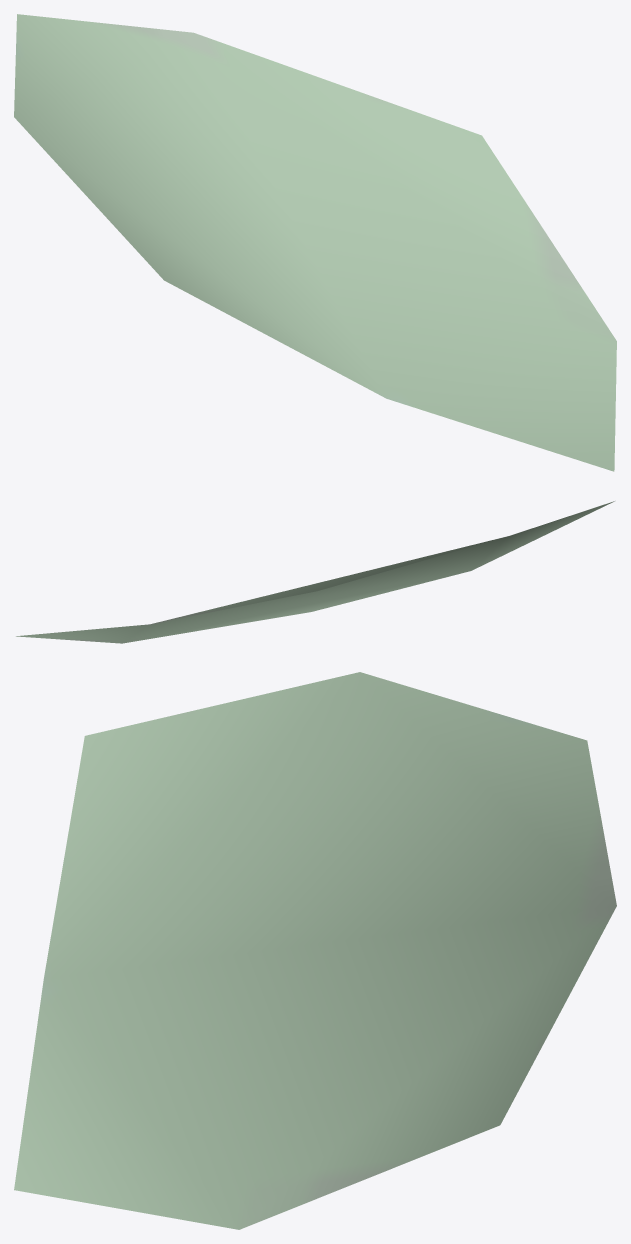
The model's file is TROLLHOLE02_HOLECAP173.fbx.
3 views of the same model, one above another, from view 1: azimuth 30°, elevation 25°; view 2: azimuth 150°, elevation 25°; view 3: azimuth 270°, elevation 25° (orthographic). The views are drawn at different scales.
Parts seen in each view (by area): view 1: TROLLHOLE02_HOLECAP173; view 2: TROLLHOLE02_HOLECAP173; view 3: TROLLHOLE02_HOLECAP173.
Part boxes in pixels (<box>): TROLLHOLE02_HOLECAP173: <box>14,14,616,471</box>; TROLLHOLE02_HOLECAP173: <box>16,501,614,643</box>; TROLLHOLE02_HOLECAP173: <box>14,672,616,1229</box>.
Bounding box in the file's own units: 30562 × 17681 × 30386.
1 material, 1 textured.
